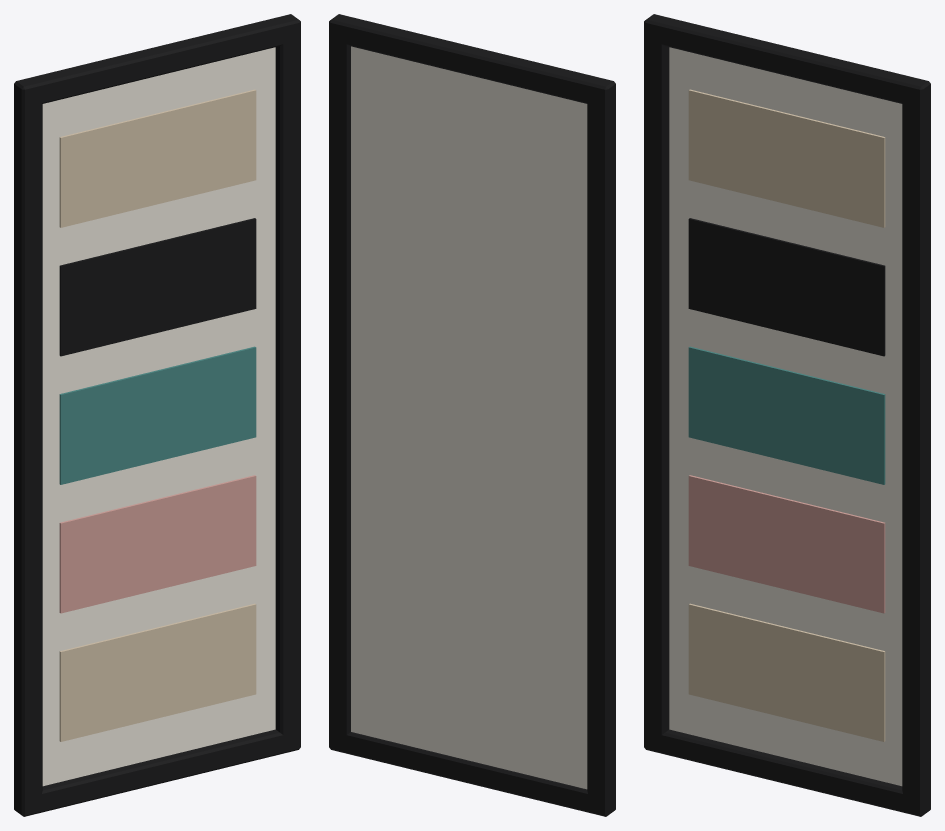
The model's file is i_pic_8.glb.
3 renders of one model, left to right at view 1: azimuth 30°, elevation 25°; view 2: azimuth 150°, elevation 25°; view 3: azimuth 330°, elevation 25°, orthographic.
Visible parts, largest first — view 1: o.004, o.002, o.003, o.006, o.007, o.008, o.009, o.005, o.001, o; view 2: o.004, o.002, o.003, o.001, o; view 3: o.004, o.003, o.002, o.006, o.007, o.008, o.009, o.005, o.001, o.
Boxes of the visible parts, <box> form: o.004: <box>42,47,275,786</box>; o.002: <box>14,83,42,816</box>; o.003: <box>275,19,300,751</box>; o.006: <box>59,475,256,613</box>; o.007: <box>59,346,256,484</box>; o.008: <box>59,218,256,356</box>; o.009: <box>59,89,256,227</box>; o.005: <box>59,603,256,741</box>; o.001: <box>14,14,299,107</box>; o: <box>14,729,299,816</box>; o.004: <box>351,46,587,789</box>; o.002: <box>587,81,615,816</box>; o.003: <box>329,21,350,750</box>; o.001: <box>329,14,615,107</box>; o: <box>329,730,615,816</box>; o.004: <box>669,47,902,786</box>; o.003: <box>902,81,930,816</box>; o.002: <box>644,21,669,750</box>; o.006: <box>688,475,885,613</box>; o.007: <box>688,346,885,484</box>; o.008: <box>688,218,885,356</box>; o.009: <box>688,89,885,227</box>; o.005: <box>688,603,885,741</box>; o.001: <box>644,14,930,107</box>; o: <box>644,729,930,816</box>.
Bounding box in the file's own units: 0.4 × 1 × 0.025.
